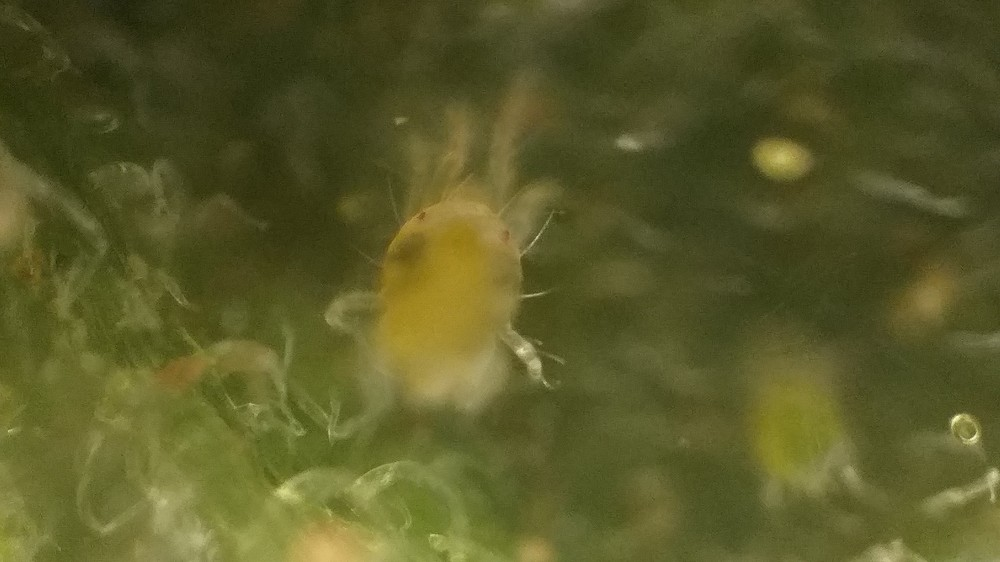Aracnido Rojo: (318, 75, 583, 463)
